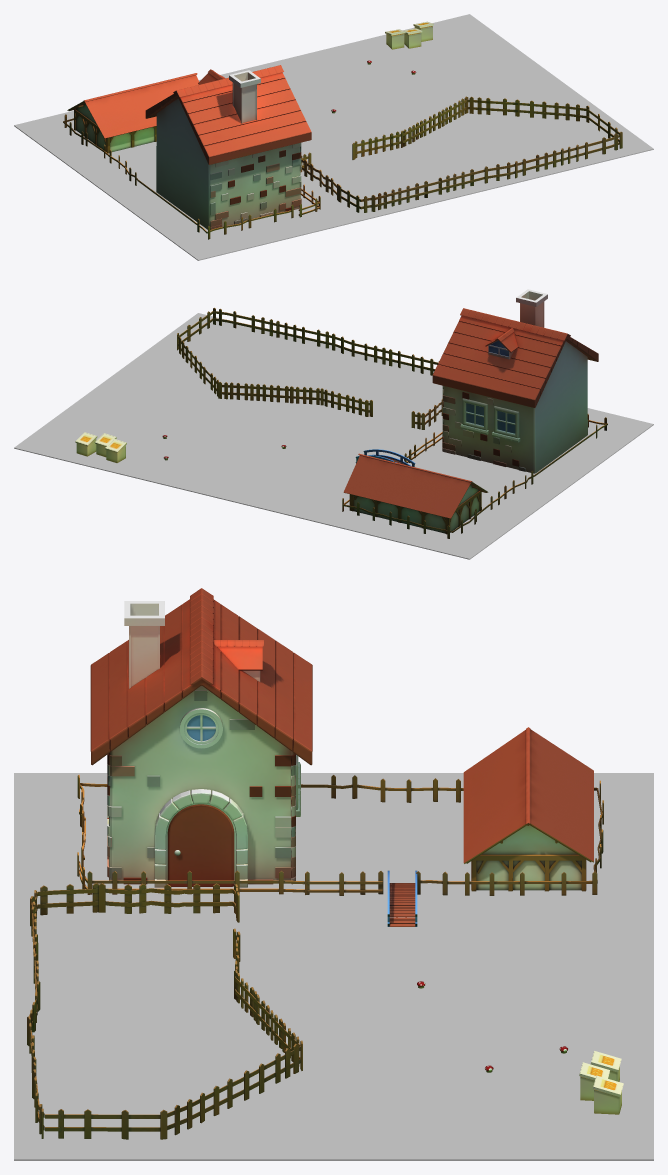
The model's file is Farm_01.FBX.
3 views of the same model, one above another, from view 1: azimuth 30°, elevation 25°; view 2: azimuth 150°, elevation 25°; view 3: azimuth 270°, elevation 25° (orthographic). The views are drawn at different scales.
Visible parts, largest first — view 1: farm00, farm01, farm04, farm03, farm02; view 2: farm00, farm01, farm03, farm04, farm02, farm09, farm10; view 3: farm00, farm01, farm03, farm04, farm02, farm07, farm09.
Boxes of the visible parts, x1,y1,x2,y2 form: farm00: (14, 14, 653, 260); farm01: (145, 65, 311, 229); farm04: (300, 96, 622, 212); farm03: (67, 73, 198, 153); farm02: (63, 114, 320, 239); farm00: (14, 313, 653, 559); farm01: (432, 289, 598, 473); farm03: (343, 453, 488, 534); farm04: (177, 307, 442, 429); farm02: (342, 414, 607, 538); farm09: (75, 432, 97, 456); farm10: (105, 439, 126, 462); farm00: (14, 773, 653, 1160); farm01: (90, 588, 312, 887); farm03: (463, 727, 593, 891); farm04: (27, 883, 302, 1139); farm02: (77, 774, 603, 895); farm07: (387, 870, 417, 926); farm09: (593, 1075, 623, 1114).
Size of the model in its own units: 1552 by 478 by 1087.
